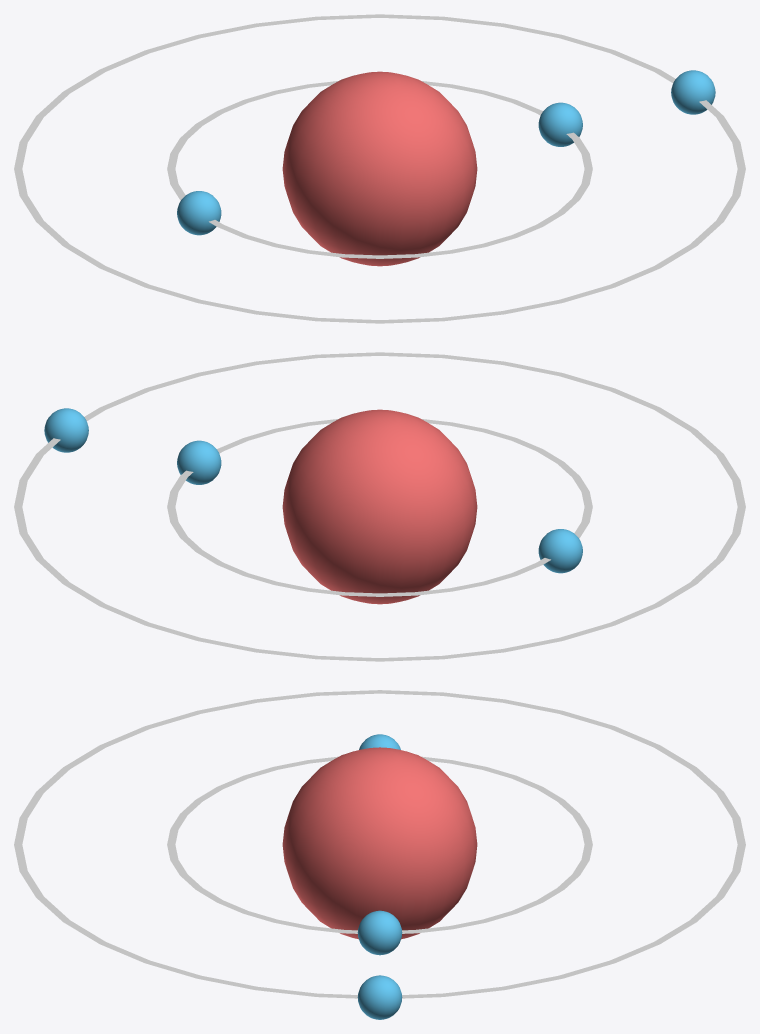
Rendered from lithium_atom.glb.
3 views of the same model, one above another, from view 1: azimuth 30°, elevation 25°; view 2: azimuth 150°, elevation 25°; view 3: azimuth 270°, elevation 25° (orthographic).
Visible parts, largest first — view 1: nucleus_node, shell_ring_1, shell_ring_0, electron_node_0_1, electron_node_1_0, electron_node_0_0; view 2: nucleus_node, shell_ring_1, shell_ring_0, electron_node_0_1, electron_node_1_0, electron_node_0_0; view 3: nucleus_node, shell_ring_1, shell_ring_0, electron_node_0_0, electron_node_1_0.
Boxes of the visible parts, bbox=[...] form: nucleus_node: bbox=[282, 71, 477, 266]; shell_ring_1: bbox=[14, 14, 745, 323]; shell_ring_0: bbox=[167, 81, 592, 258]; electron_node_0_1: bbox=[177, 191, 221, 235]; electron_node_1_0: bbox=[671, 70, 715, 114]; electron_node_0_0: bbox=[538, 102, 582, 146]; nucleus_node: bbox=[282, 409, 477, 604]; shell_ring_1: bbox=[14, 352, 745, 661]; shell_ring_0: bbox=[167, 419, 592, 596]; electron_node_0_1: bbox=[538, 529, 582, 573]; electron_node_1_0: bbox=[44, 408, 88, 452]; electron_node_0_0: bbox=[177, 440, 221, 484]; nucleus_node: bbox=[282, 747, 477, 939]; shell_ring_1: bbox=[14, 690, 745, 998]; shell_ring_0: bbox=[167, 756, 592, 933]; electron_node_0_0: bbox=[357, 910, 402, 955]; electron_node_1_0: bbox=[357, 975, 402, 1019].
Bounding box in the file's own units: 2.7 × 0.7 × 2.63.
